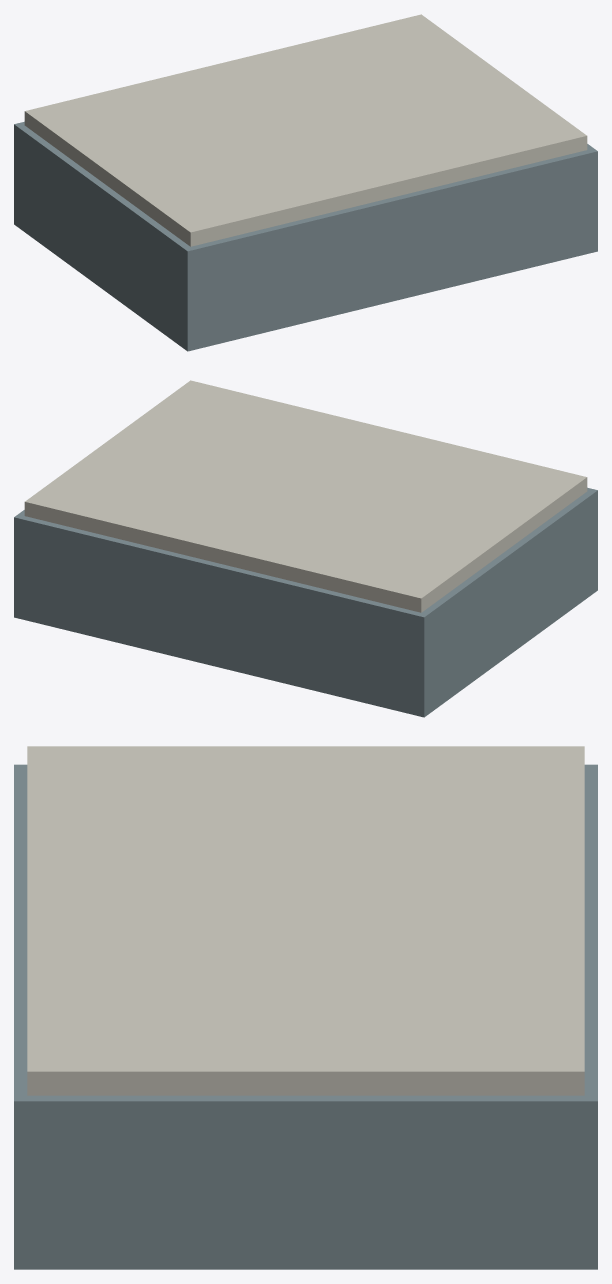
Rendered from towel_folded.glb.
3 renders of one model, top to bottom at view 1: azimuth 30°, elevation 25°; view 2: azimuth 150°, elevation 25°; view 3: azimuth 270°, elevation 25°, orthographic. The views are drawn at different scales.
Parts seen in each view (by area): view 1: body; view 2: body; view 3: body.
Part boxes in pixels (bbox=[...]): body: bbox=[14, 14, 597, 351]; body: bbox=[14, 380, 597, 717]; body: bbox=[14, 746, 597, 1269].
Size of the model in its own units: 0.3 by 0.08 by 0.22.
